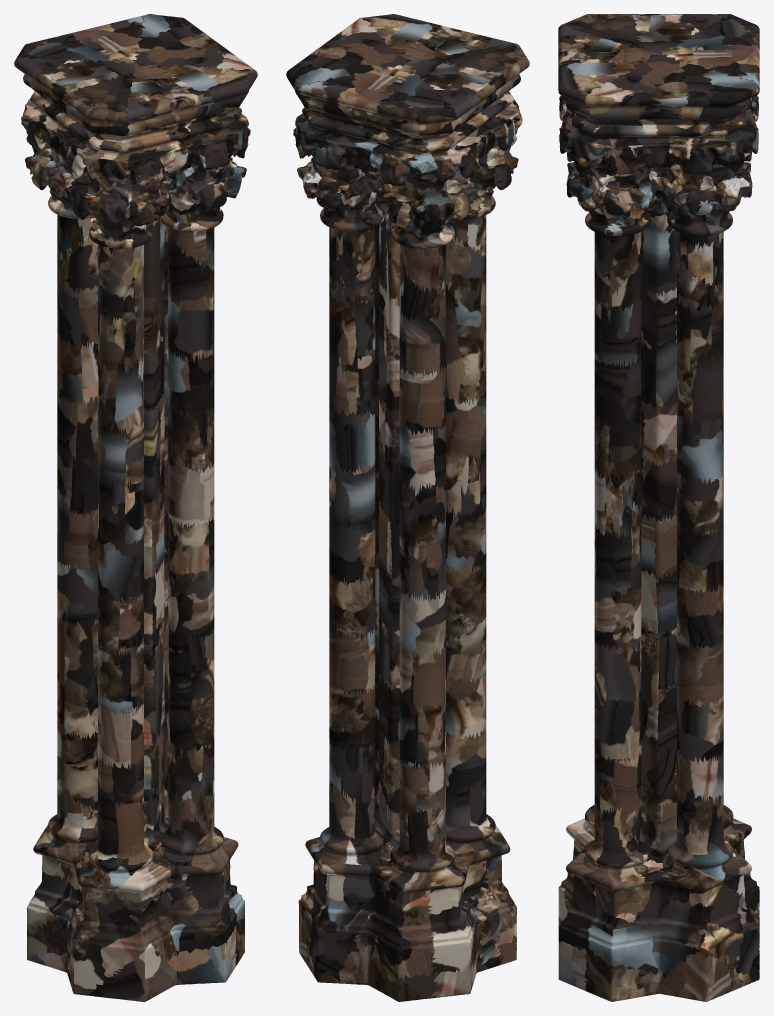
File: pillar_main_side.fbx
3 renders of one model, left to right at view 1: azimuth 30°, elevation 25°; view 2: azimuth 150°, elevation 25°; view 3: azimuth 270°, elevation 25°, orthographic.
Visible parts, largest first — view 1: Mesh_0.001; view 2: Mesh_0.001; view 3: Mesh_0.001.
Boxes of the visible parts, x1,y1,x2,y2 form: Mesh_0.001: (14, 14, 257, 1001); Mesh_0.001: (286, 14, 529, 1001); Mesh_0.001: (558, 14, 759, 1001).
Bounding box in the file's own units: 38.29 × 190 × 38.29.
